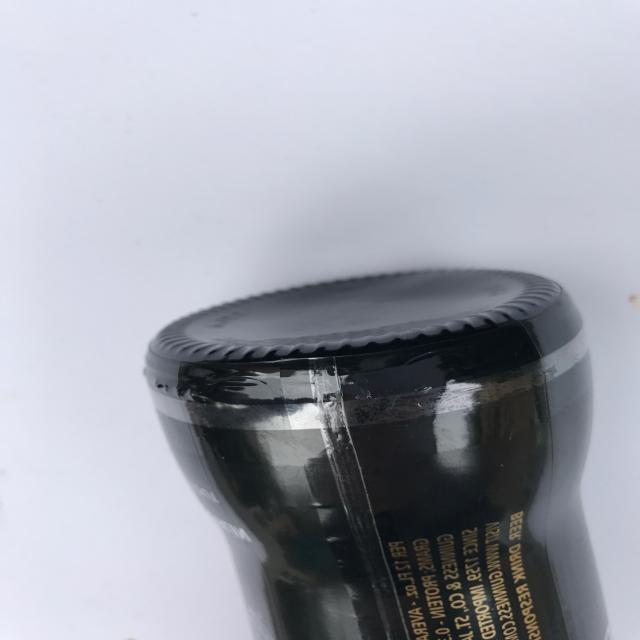glass: (143, 266, 610, 639)
